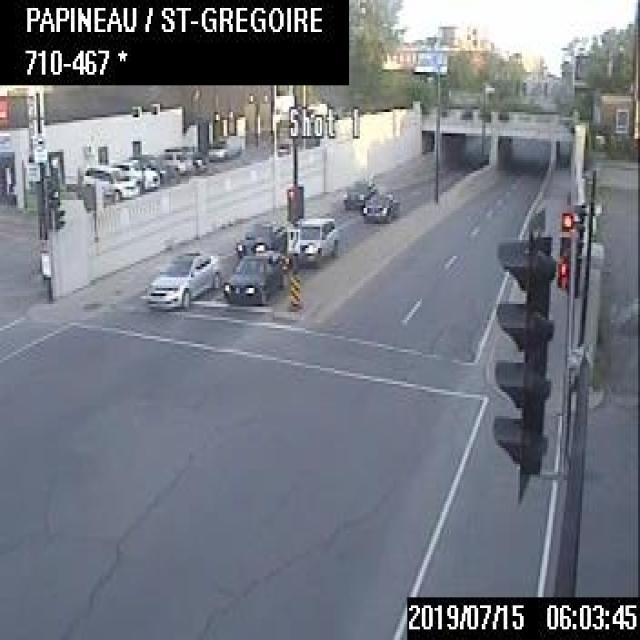vehicle: (143, 243, 221, 308), (218, 242, 289, 307), (79, 161, 141, 205), (297, 211, 336, 269), (235, 214, 290, 254), (112, 156, 160, 192), (339, 175, 374, 209), (360, 190, 395, 222)
